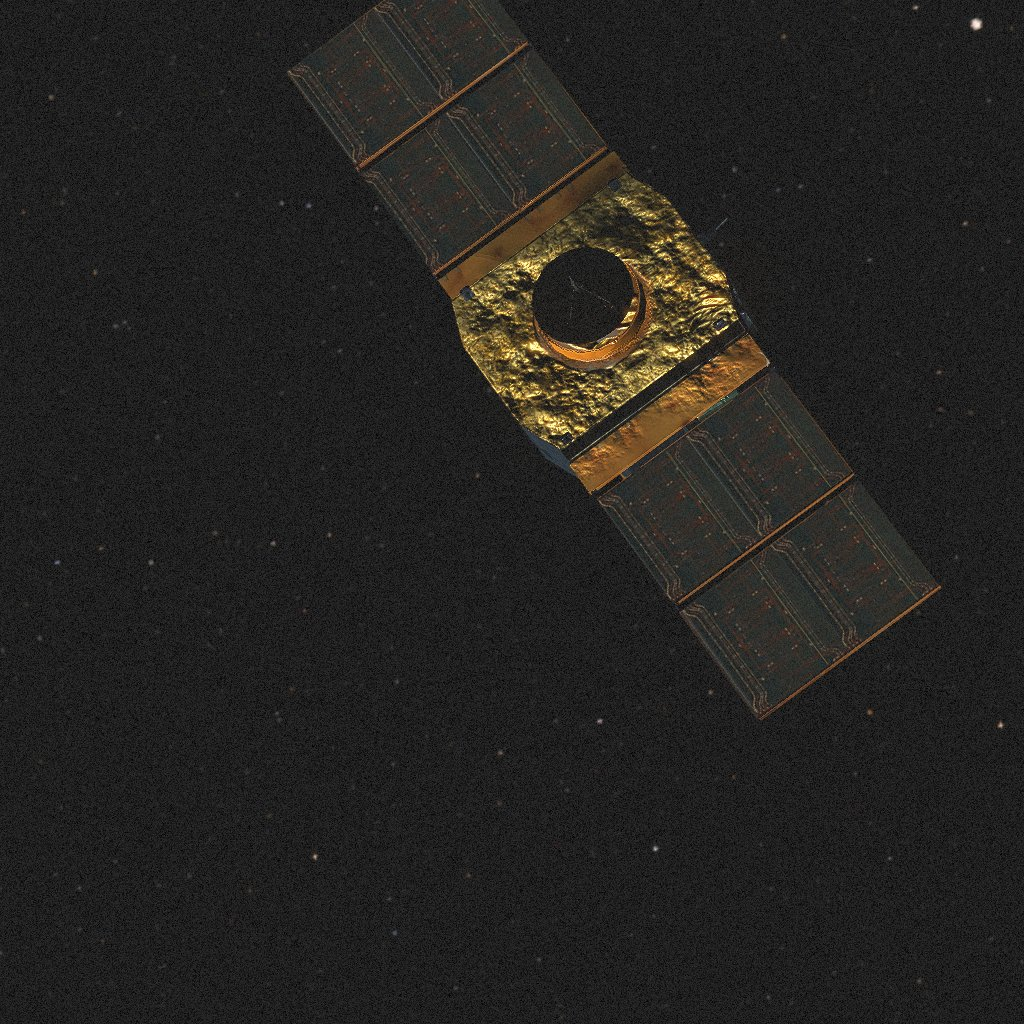soho: (287, 0, 941, 720)
